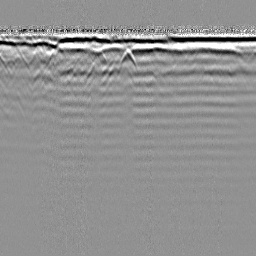cavity: (117, 47, 137, 69)
